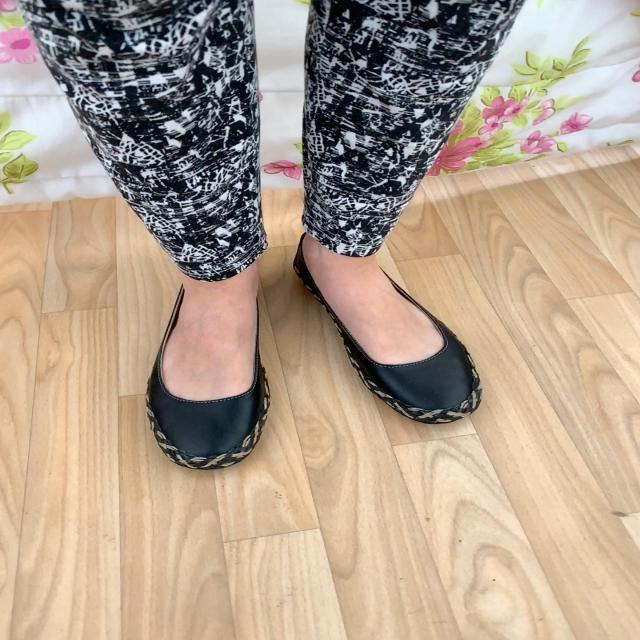shoe: (294, 238, 483, 425), (146, 265, 269, 472)
